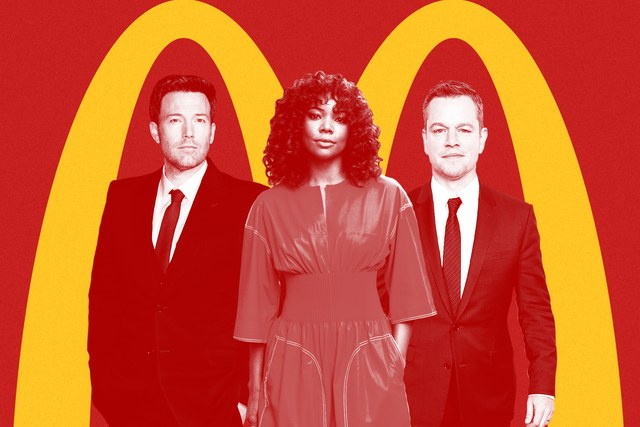mcdonalds: (11, 0, 625, 424)
